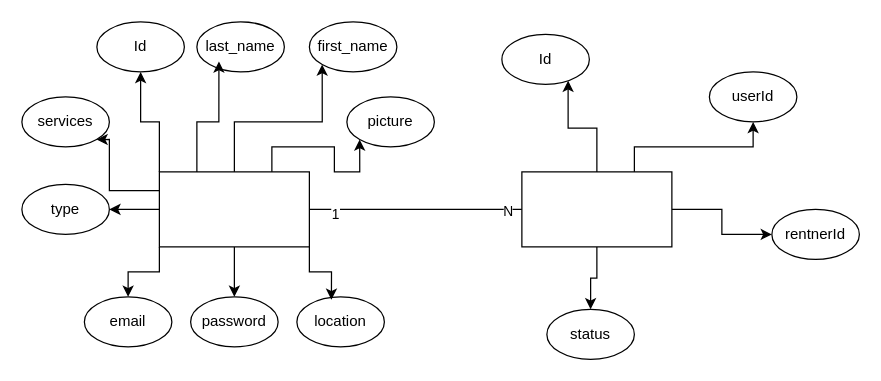
This 881x381 diagram has some shape labels left out. Here are the shapes that lost their labels. From the top down, the centre of each, then its label:
point (233, 209): client
point (596, 209): bookings
